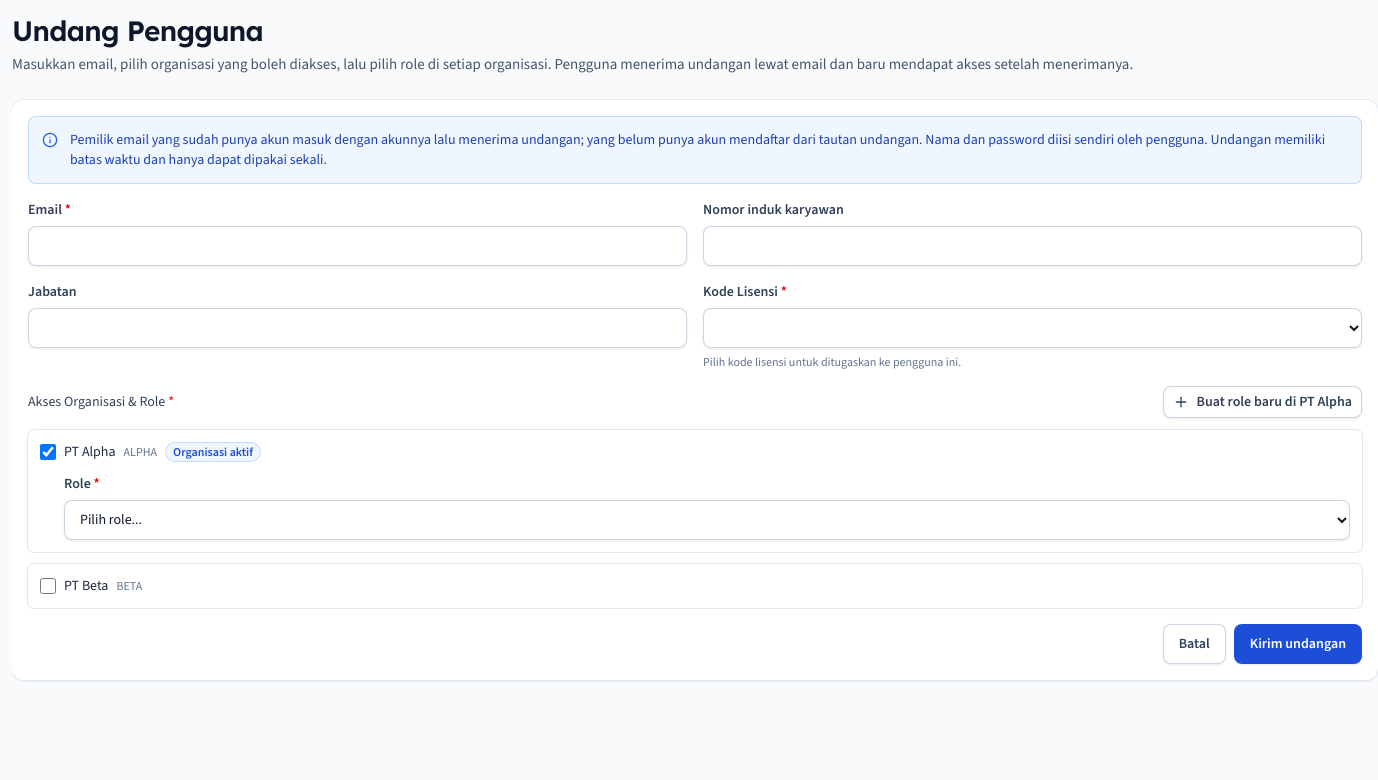
Scenario: UserCreatePage (invite) › requires a role in every selected organization and at least one organization
expect the text "Akses Organisasi & Role *" is shown: met, box [28,392,174,412]
Type "sari@grup.test" into the field labelled "Email *".
click(358, 246); type("sari@grup.test")  # box [28,226,687,266]
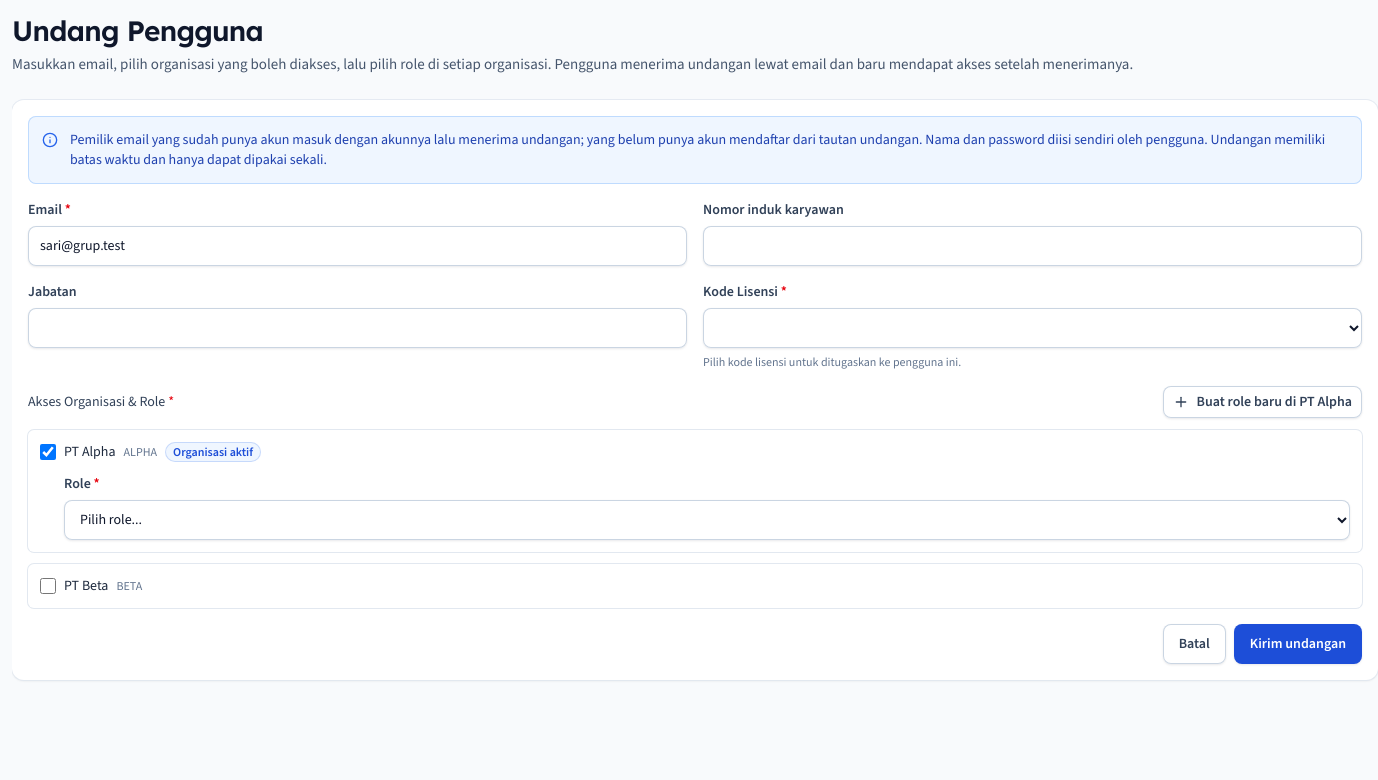
Click the button "Kirim undangan".
click(1298, 644)  # box [1234,624,1362,664]
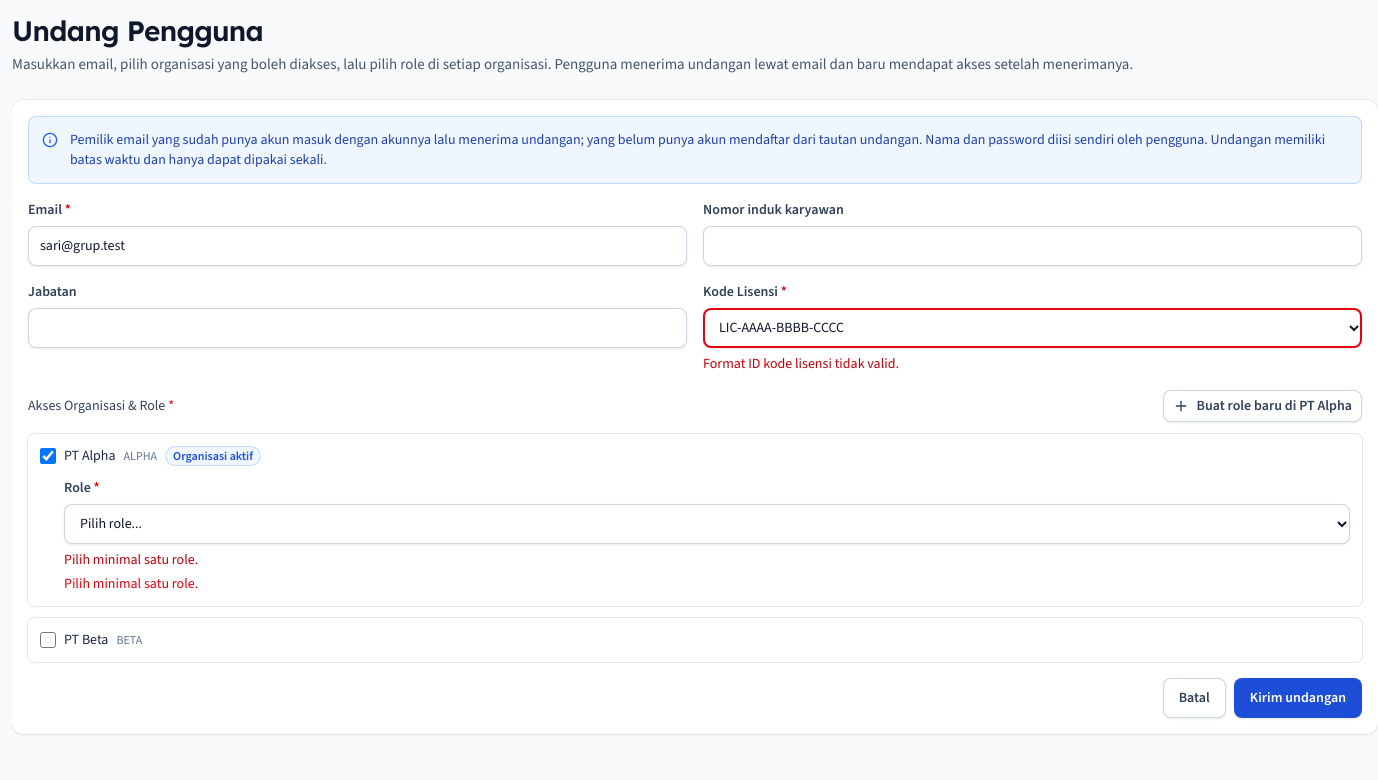
expect the 1st text "Pilih minimal satu role." is shown: met, box [64,550,198,569]
Click the checkbox labelled "PT Alpha ALPHA Organisasi aktif".
click(48, 456)  # box [40,448,56,464]
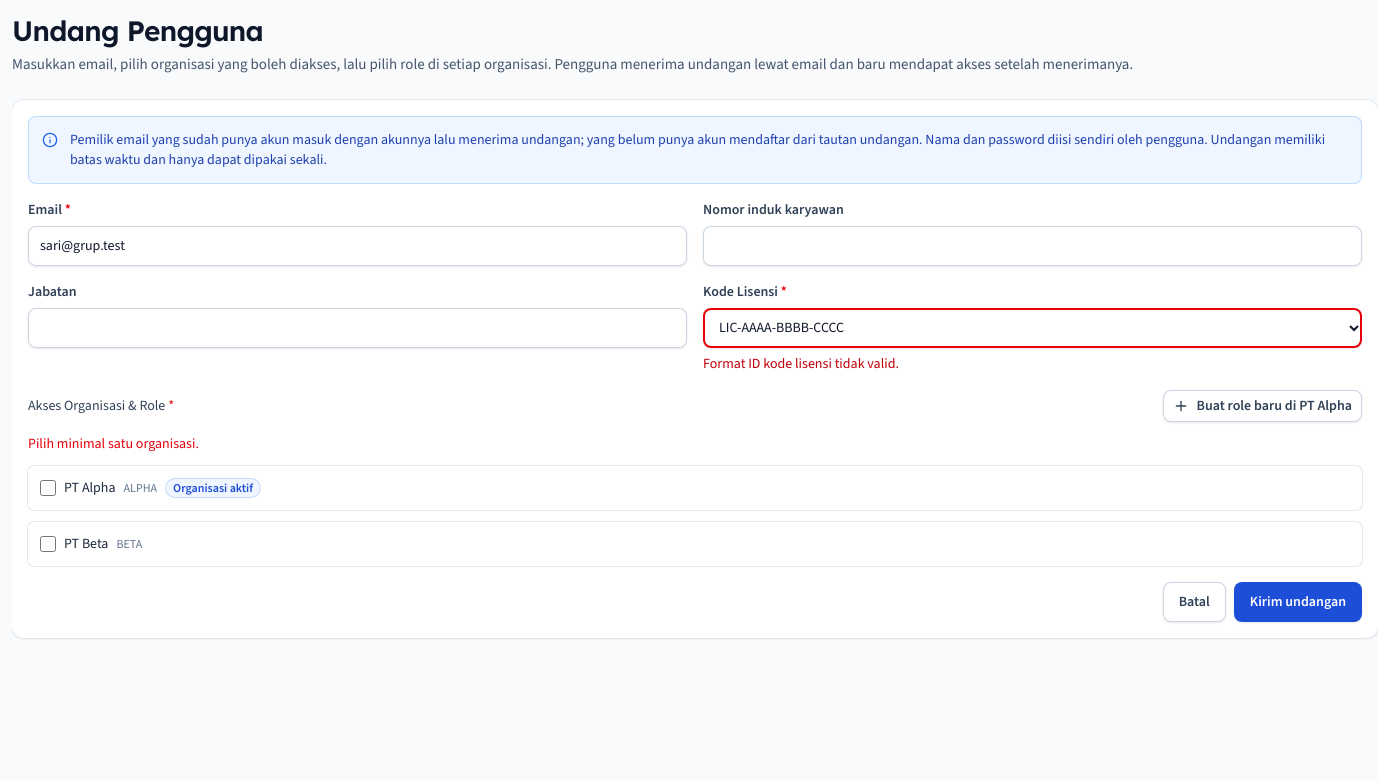
expect the text "Pilih minimal satu organisasi." is shown: met, box [28,434,199,453]
